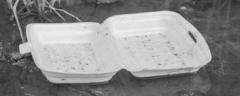general: (18, 9, 212, 84)
